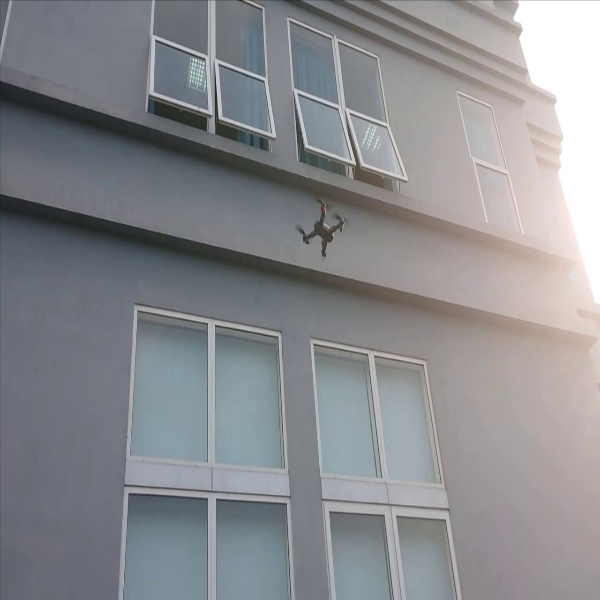drone: (285, 190, 358, 268)
